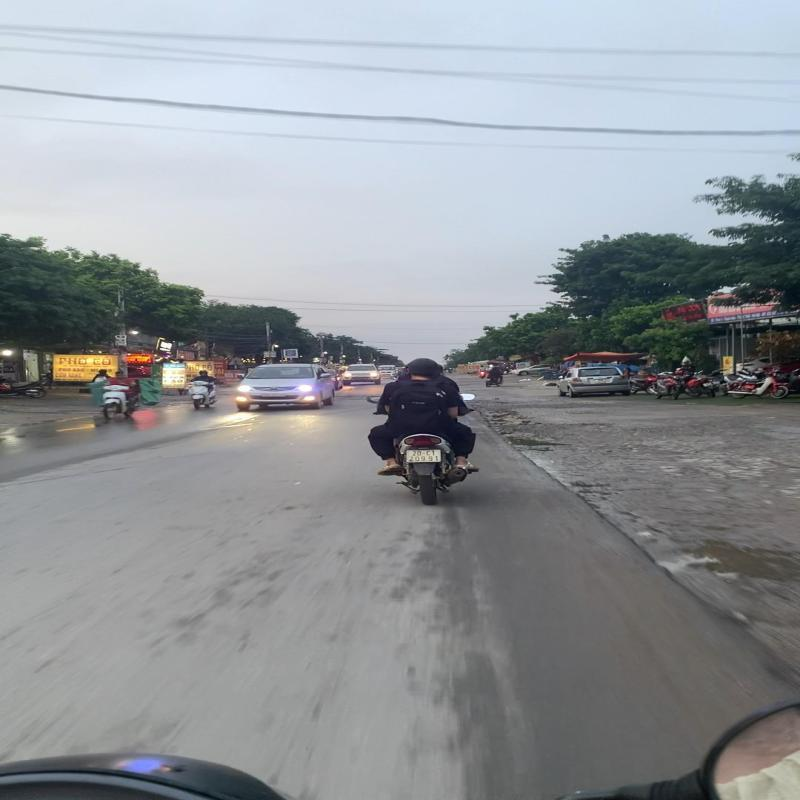helmet: (400, 356, 440, 378)
licenseplate: (403, 448, 446, 464)
motorcyclist: (365, 356, 482, 506)
